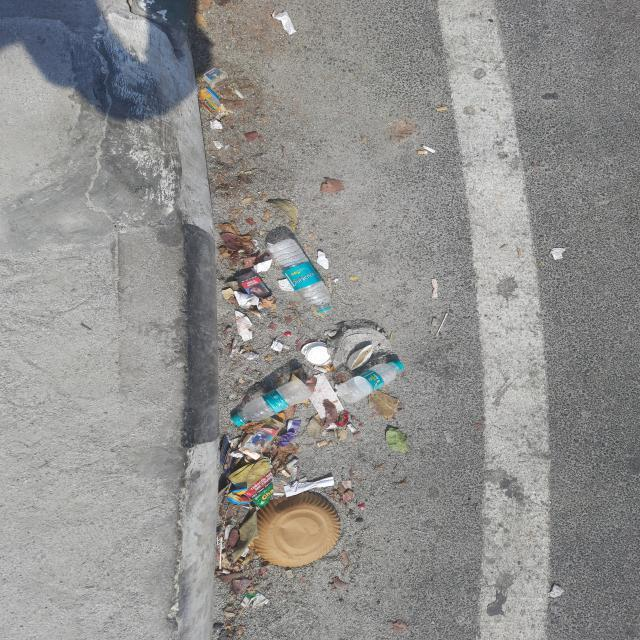Background: (2, 0, 637, 640)
Cig_bud: (230, 86, 245, 99), (223, 525, 233, 540), (421, 144, 436, 153), (285, 459, 298, 469), (443, 430, 452, 443), (313, 366, 328, 373), (347, 423, 357, 433), (263, 210, 272, 221), (281, 469, 291, 477), (316, 440, 327, 447), (433, 106, 448, 111), (285, 570, 293, 579), (431, 318, 438, 326), (417, 150, 428, 154), (222, 569, 230, 574)
Cig_pack: (238, 418, 283, 460), (234, 270, 275, 310)
Plastic: (437, 316, 446, 333)
Plastic_bottle: (267, 239, 332, 316), (232, 379, 312, 426), (335, 360, 403, 402)
Plastic_wraper: (228, 459, 273, 508), (279, 419, 301, 446), (200, 88, 222, 112), (240, 591, 268, 609), (220, 435, 232, 472), (337, 480, 355, 501), (300, 374, 317, 392)
